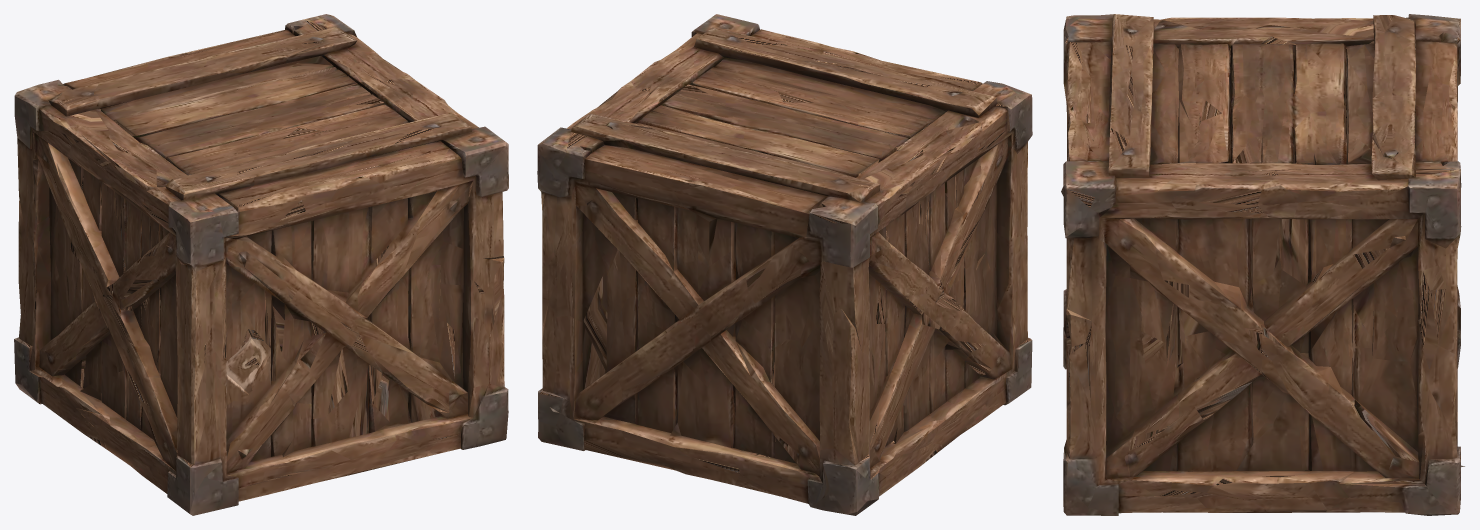
Rendered from prop_crate.8e5c830f.glb.
The picture shows the model from 3 angles, left to right: view 1: azimuth 30°, elevation 25°; view 2: azimuth 150°, elevation 25°; view 3: azimuth 270°, elevation 25°; orthographic projection. The views are drawn at different scales.
Visible parts, largest first — view 1: tripo_node_633736a8-52cb-48fc-bc9f-63fe7861b05d; view 2: tripo_node_633736a8-52cb-48fc-bc9f-63fe7861b05d; view 3: tripo_node_633736a8-52cb-48fc-bc9f-63fe7861b05d.
Boxes of the visible parts, x1,y1,x2,y2 form: tripo_node_633736a8-52cb-48fc-bc9f-63fe7861b05d: [14, 14, 508, 515]; tripo_node_633736a8-52cb-48fc-bc9f-63fe7861b05d: [537, 14, 1032, 515]; tripo_node_633736a8-52cb-48fc-bc9f-63fe7861b05d: [1061, 14, 1464, 515].
Size of the model in its own units: 0.9803 by 0.894 by 0.9541.
1 material, 1 textured.
